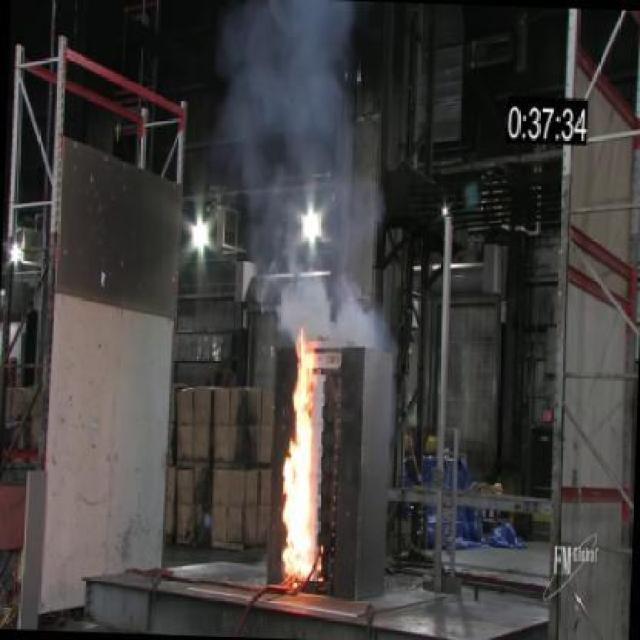fire: (206, 0, 368, 262)
smoke: (275, 318, 343, 588)
